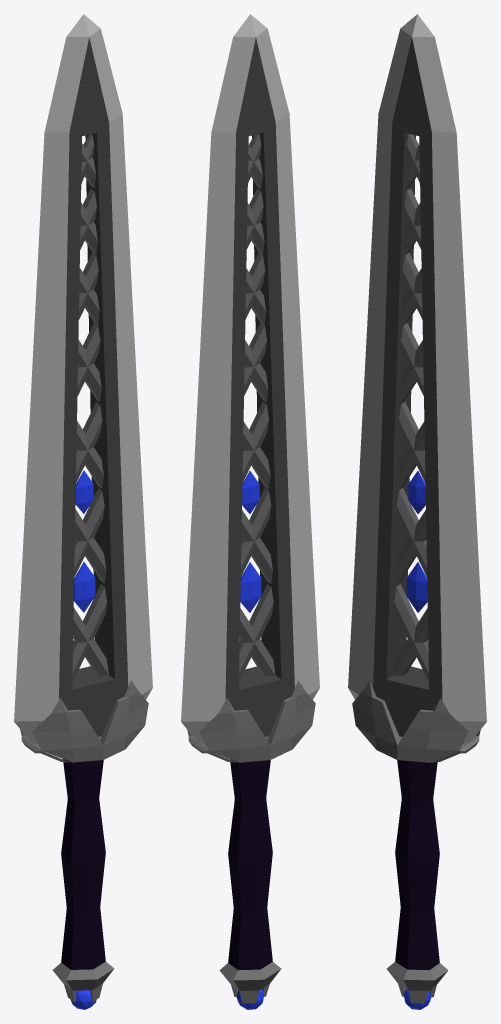
The model's file is scene_ev3S6TjFXb.glb.
The picture shows the model from 3 angles, left to right: view 1: azimuth 30°, elevation 25°; view 2: azimuth 210°, elevation 25°; view 3: azimuth 330°, elevation 25°; orthographic projection.
Parts seen in each view (by area): view 1: BladeCenter; view 2: BladeCenter; view 3: BladeCenter.
Boxes of the visible parts, <box> form: BladeCenter: <box>14,14,152,1009</box>; BladeCenter: <box>181,14,319,1009</box>; BladeCenter: <box>348,14,486,1009</box>.
Bounding box in the file's own units: 0.2 × 1.37 × 0.1.
